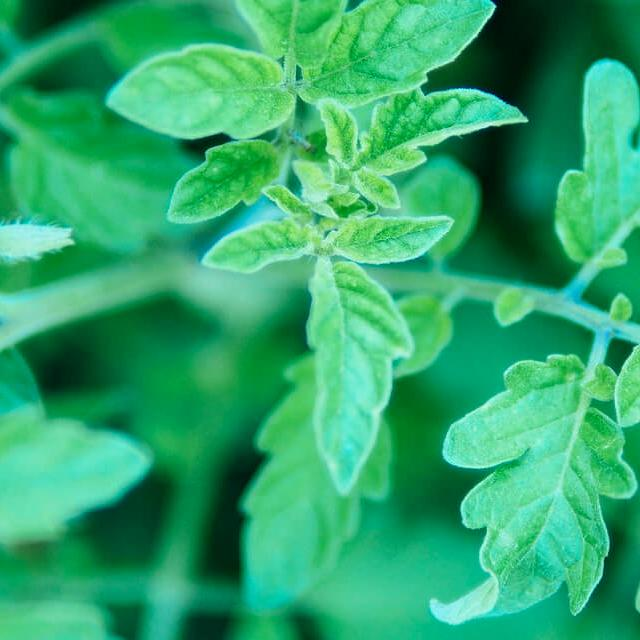Tomato leaf: (430, 334, 636, 640), (298, 243, 410, 496), (549, 2, 640, 292), (285, 0, 515, 108), (104, 45, 293, 145), (234, 0, 364, 83)
